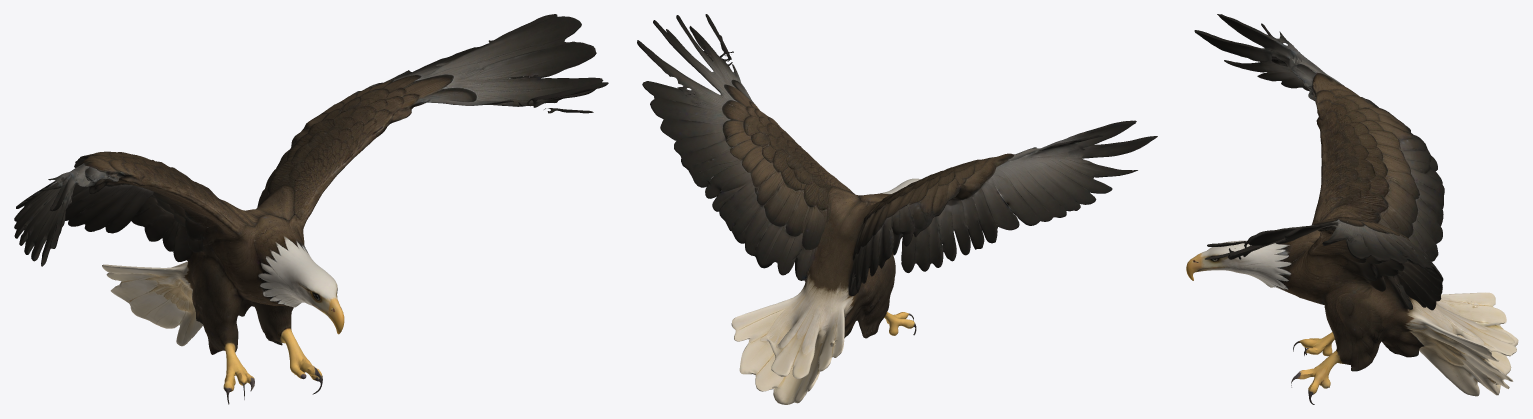
Rendered from flyingbaldeagle3dmodel.glb.
3 views of the same model, side by side, from view 1: azimuth 30°, elevation 25°; view 2: azimuth 150°, elevation 25°; view 3: azimuth 270°, elevation 25° (orthographic). The views are drawn at different scales.
Visible parts, largest first — view 1: tripo_node_a10eb597; view 2: tripo_node_a10eb597; view 3: tripo_node_a10eb597.
Part boxes in pixels (x1,y1,x2,y2): tripo_node_a10eb597: (14,14,608,404); tripo_node_a10eb597: (637,14,1157,404); tripo_node_a10eb597: (1186,14,1518,404).
Size of the model in its own units: 0.9994 by 0.5477 by 0.5779.
Materials: 1 (1 with a texture image).
